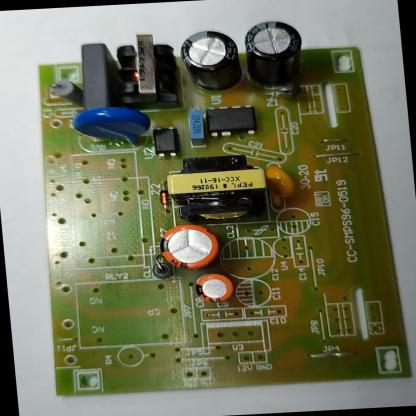Cap1: (157, 220, 220, 272)
Cap2: (193, 271, 234, 304)
Cap3: (179, 28, 242, 95)
Cap4: (240, 20, 304, 90)
MOSFET: (202, 102, 258, 138)
Mov: (69, 106, 154, 150)
Resistor: (51, 77, 81, 108)
Transformer: (161, 152, 272, 226), (110, 30, 180, 110)
